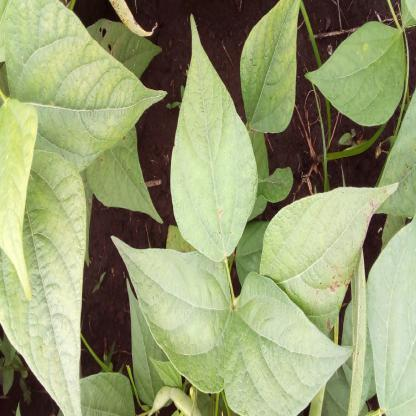Beans_Angular_LeafSpot: (260, 175, 393, 336), (86, 14, 164, 94)
